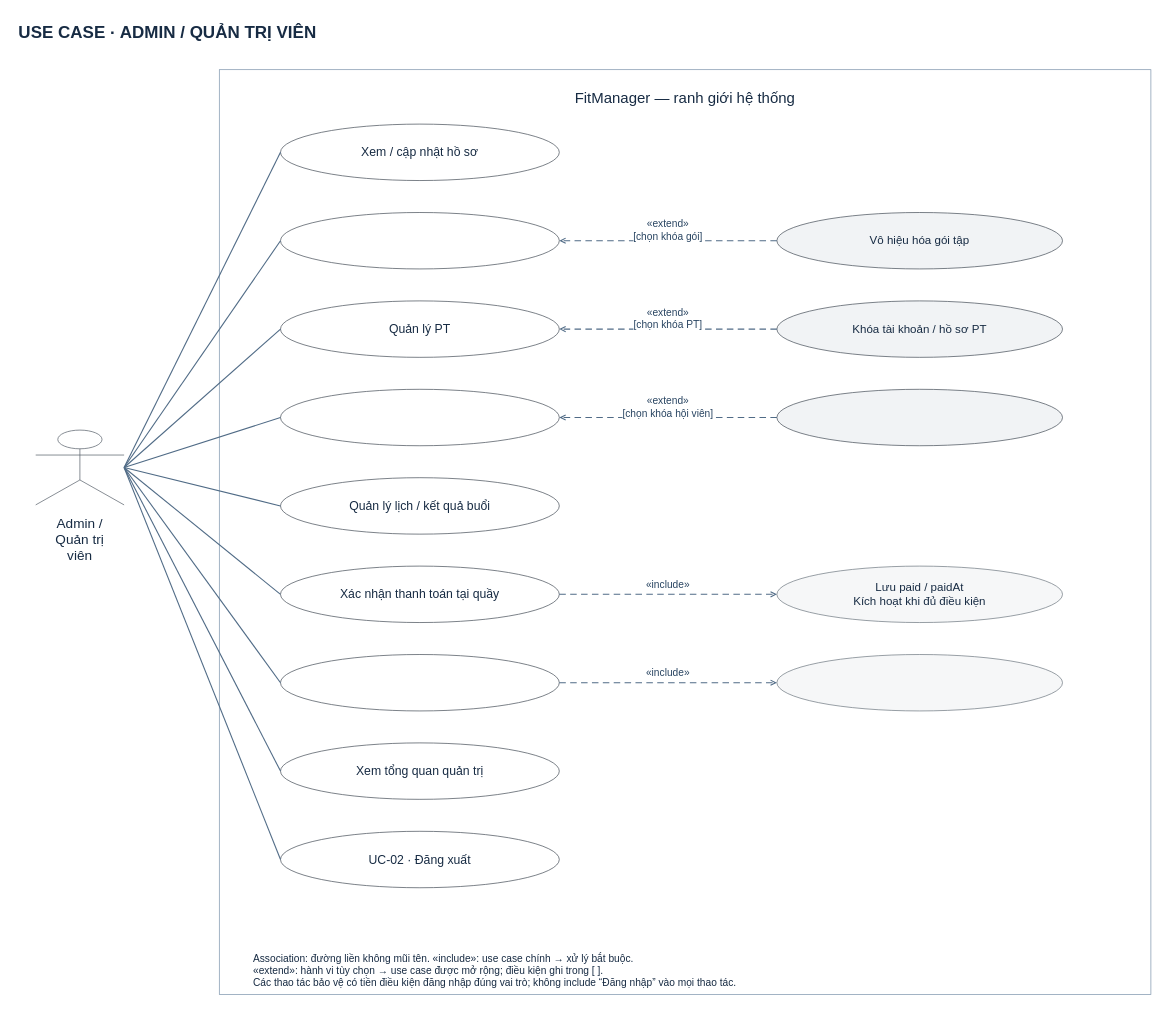
The diagram is 1172 pixels wide and 1011 high, and some of its shapes have lost their labels. The shapes that lost their labels are listed below. From the top down, each one's centre as x and y in pixels, then its label:
the point at 419,240: Quản lý / khóa gói tập
the point at 419,417: Quản lý hội viên
the point at 919,417: Khóa tài khoản hội viên
the point at 419,682: Xem báo cáo doanh thu
the point at 919,682: Lọc paid theo paidAt Tổng hợp amount theo kỳ
